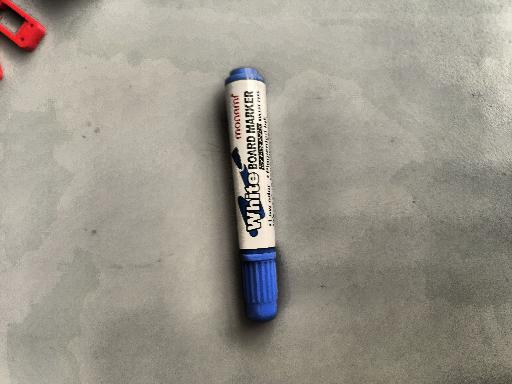marcador azul: (225, 68, 277, 321)
